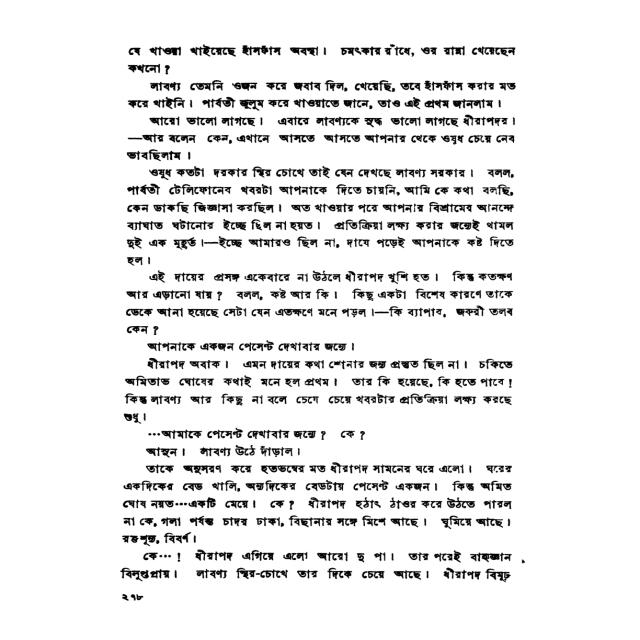page number: (117, 591, 147, 604)
paragraph: (124, 165, 518, 268), (119, 461, 516, 547), (119, 356, 518, 426), (123, 269, 515, 337), (119, 547, 515, 585), (127, 78, 519, 112), (124, 131, 519, 164), (124, 42, 519, 75), (142, 113, 517, 130), (142, 427, 367, 443), (139, 339, 356, 354), (141, 444, 303, 460)
